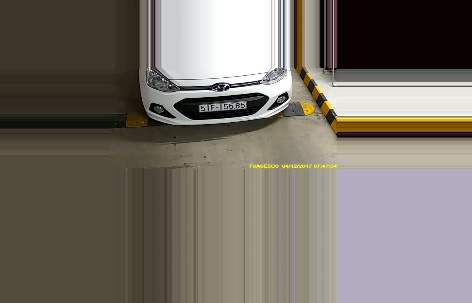plate: (194, 98, 249, 113)
